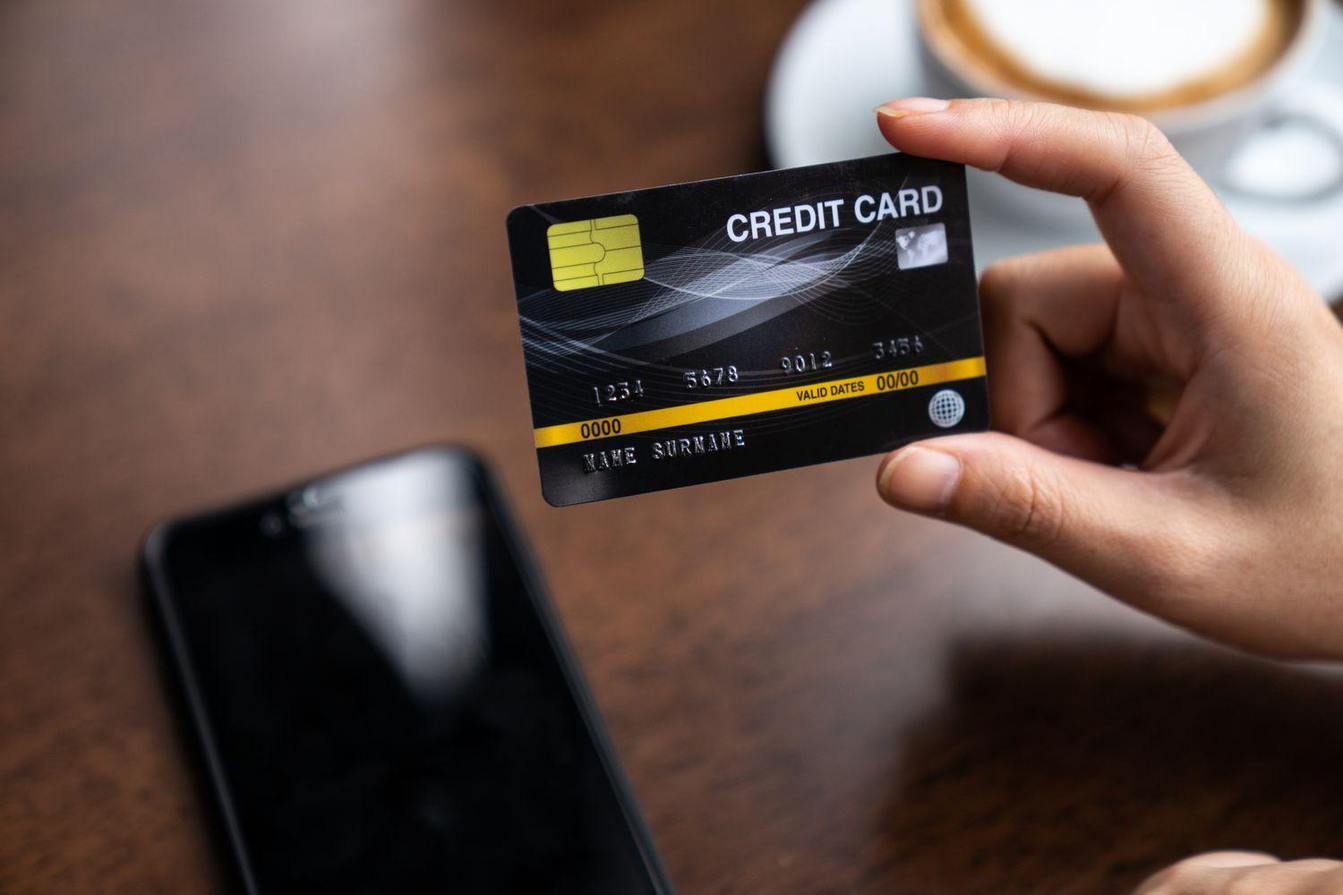Credit_card: (508, 152, 987, 506)
